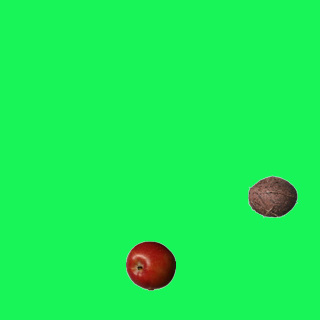Apple Braeburn: (125, 240, 175, 290)
Cocos: (247, 171, 297, 221)
